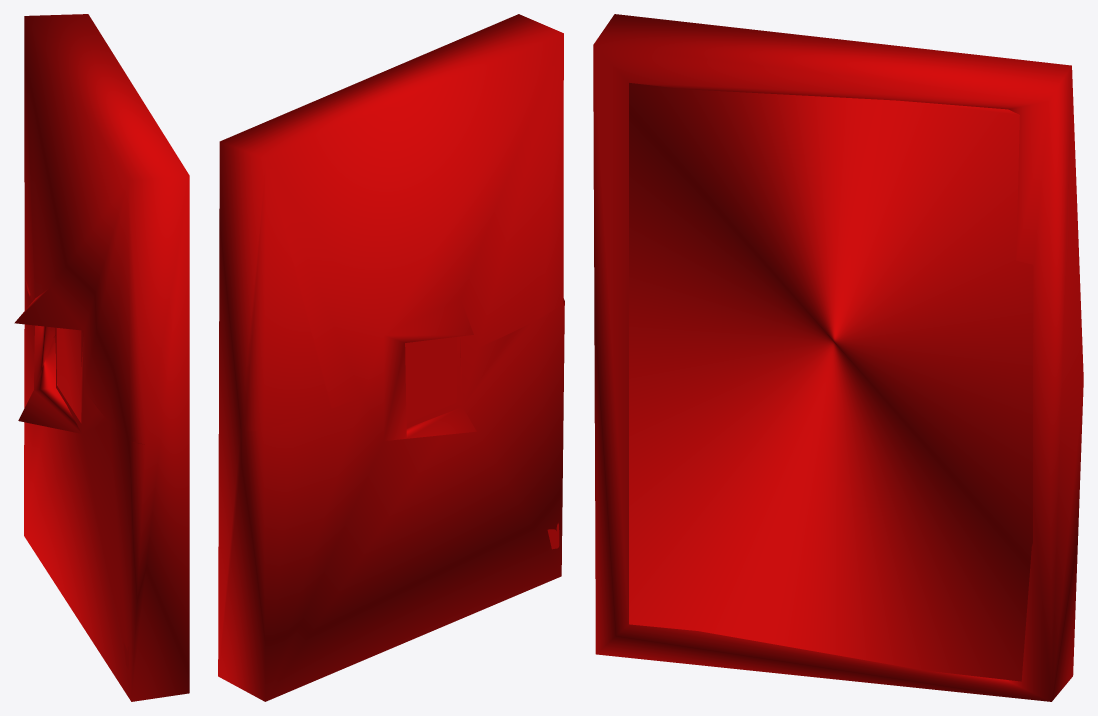
The model's file is H1_decimate2.dae.
3 renders of one model, left to right at view 1: azimuth 30°, elevation 25°; view 2: azimuth 150°, elevation 25°; view 3: azimuth 270°, elevation 25°, orthographic. The views are drawn at different scales.
Visible parts, largest first — view 1: H1; view 2: H1; view 3: H1.
Boxes of the visible parts, box(x1,y1,x2,y2) form: H1: box(14, 14, 189, 701); H1: box(218, 14, 564, 701); H1: box(593, 14, 1083, 701).
Size of the model in its own units: 0.0814 by 0.1851 by 0.2549.
